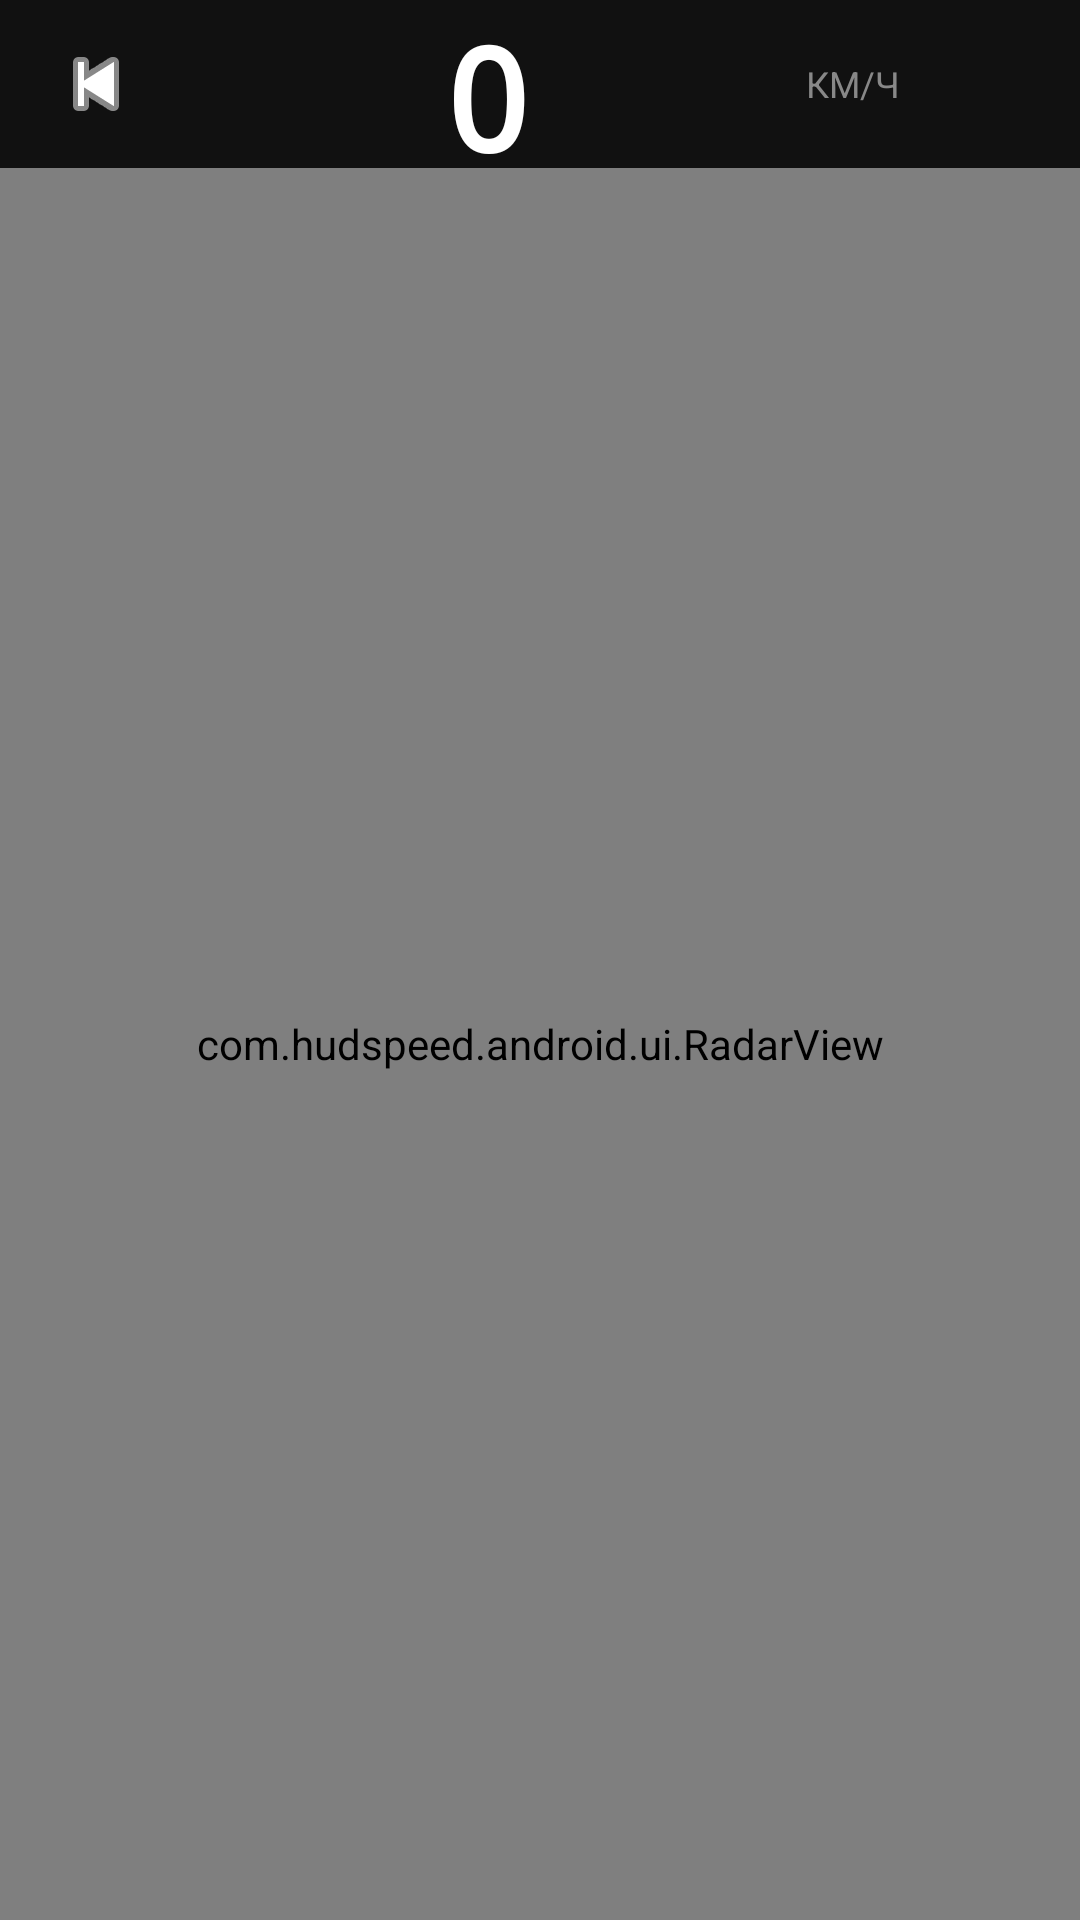

Icons on this 1080px x 1920px Android screen, each with the point to tap as (x=x, y=y):
Назад: (x=96, y=84)
